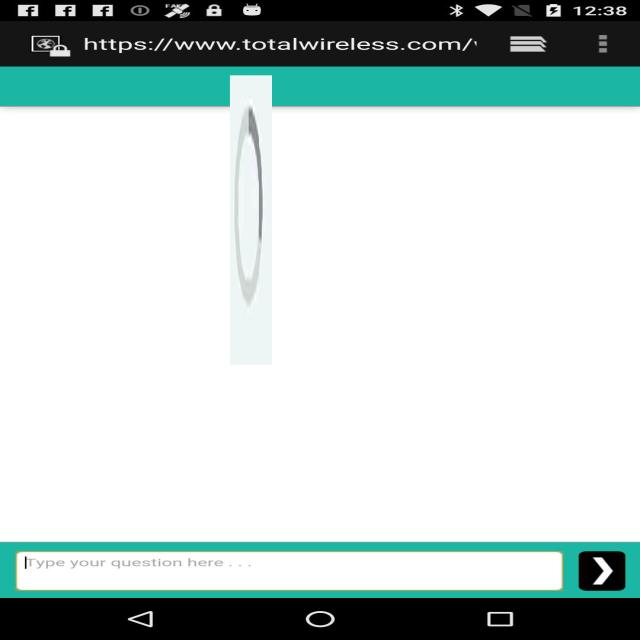misdirection: (230, 75, 272, 365)
